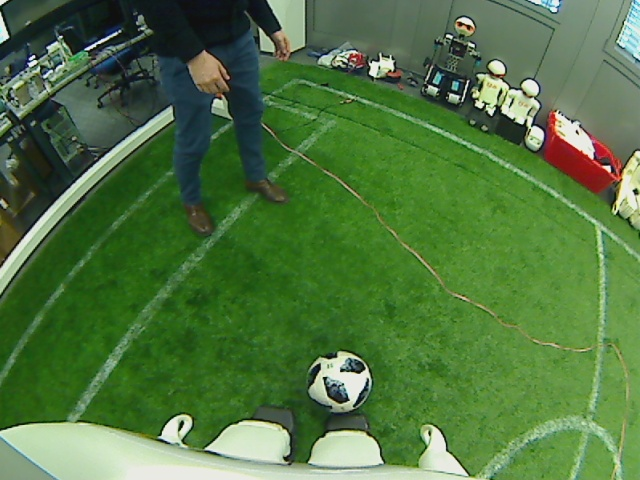ball: (304, 348, 374, 413)
